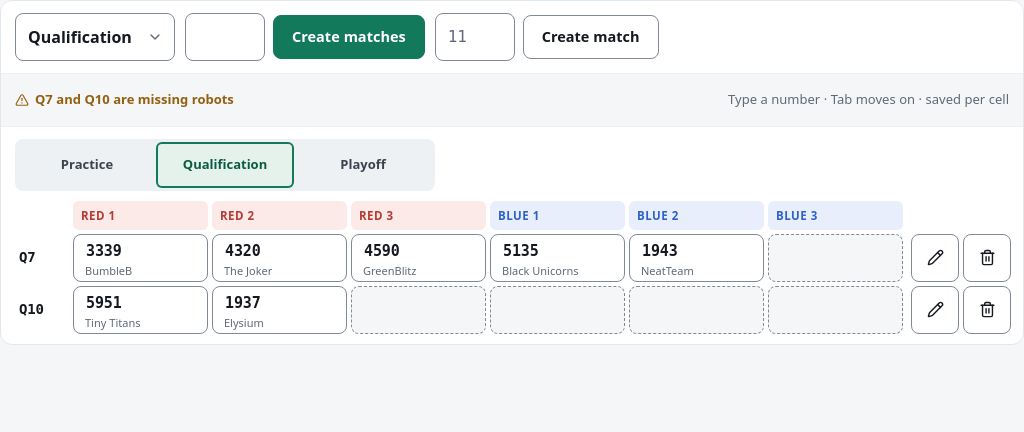
Scenario: MatchesPanel › a save the server cannot be reached for › Try again re-sends the match's current line-up and clears the mark
This screenshot has width=1024, height=432.
Type "6230" into the 9th dropdown named "Q10 Red 3" at (418, 310), box [351,286,486,334]
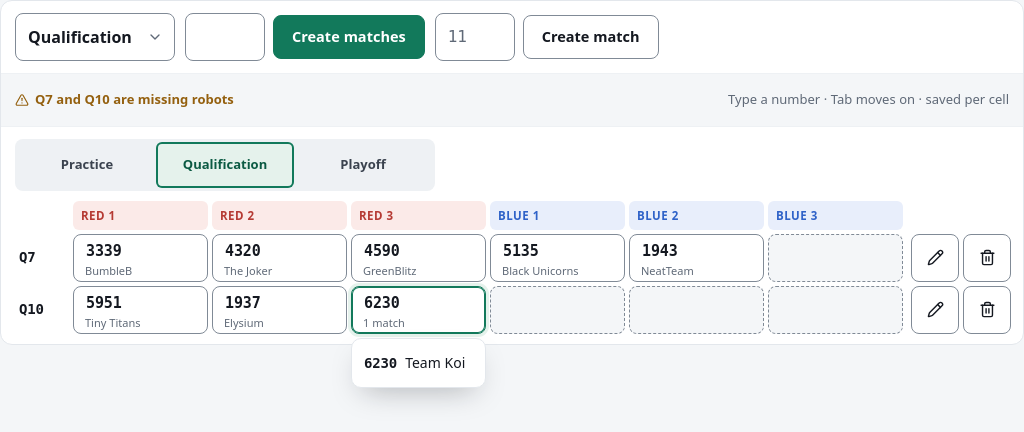
Press Tab
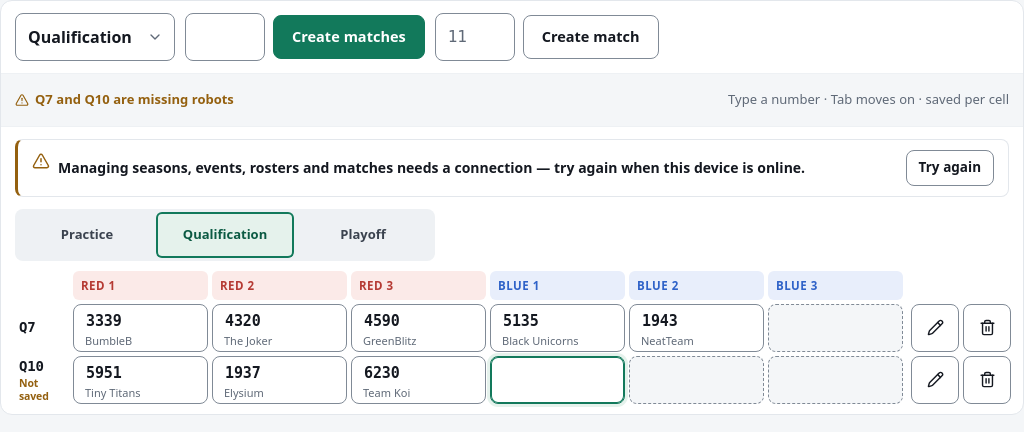
Check: the element "Q10" is marked as invalid, box [13,356,1011,404]
Click the button "Try again" at (950, 168), box [906,150,994,186]
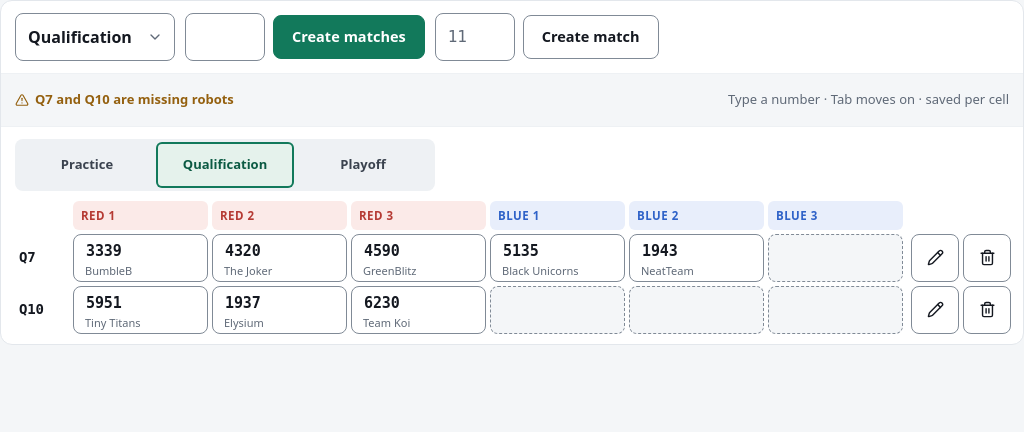
Check: the text "Not saved" is gone
Check: the message is gone
